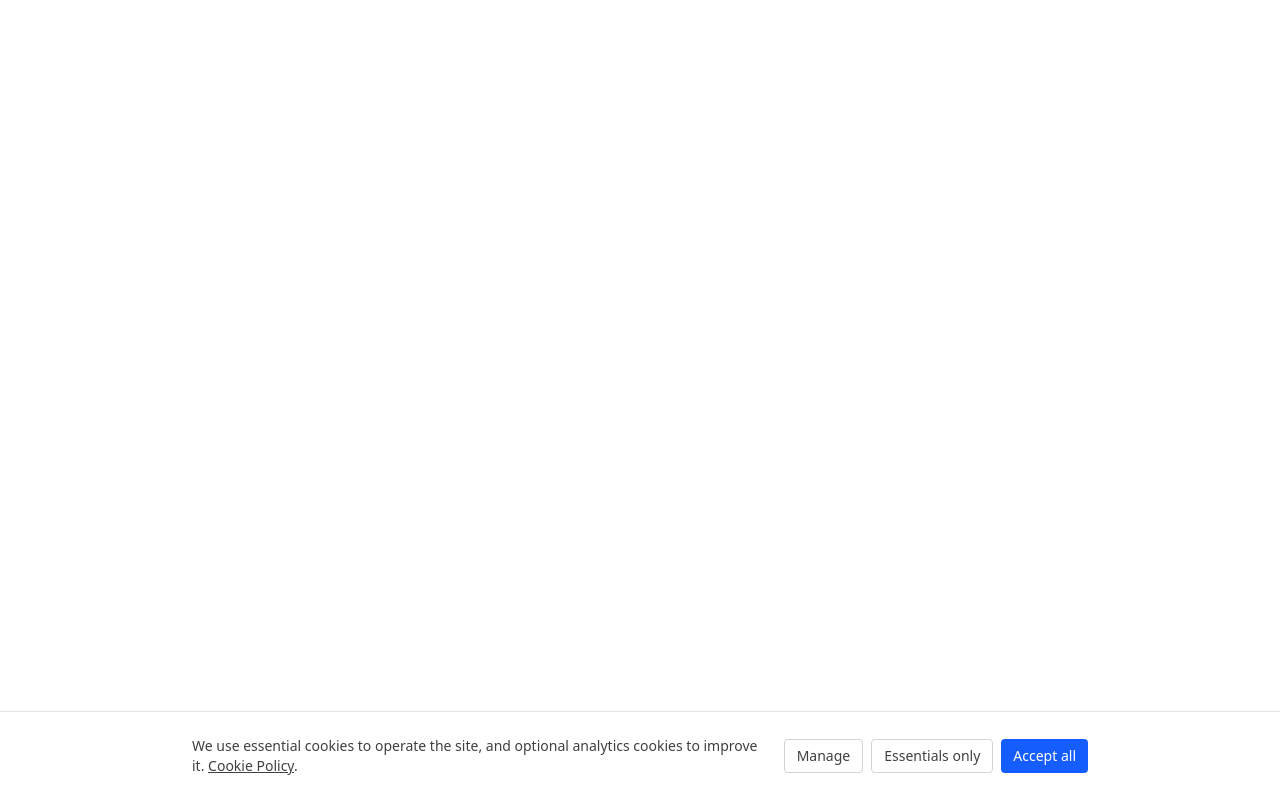
Scenario: CookieBanner › closes dialog when Cancel is clicked
Click the button "Manage": (823, 756) [784,739,863,773]
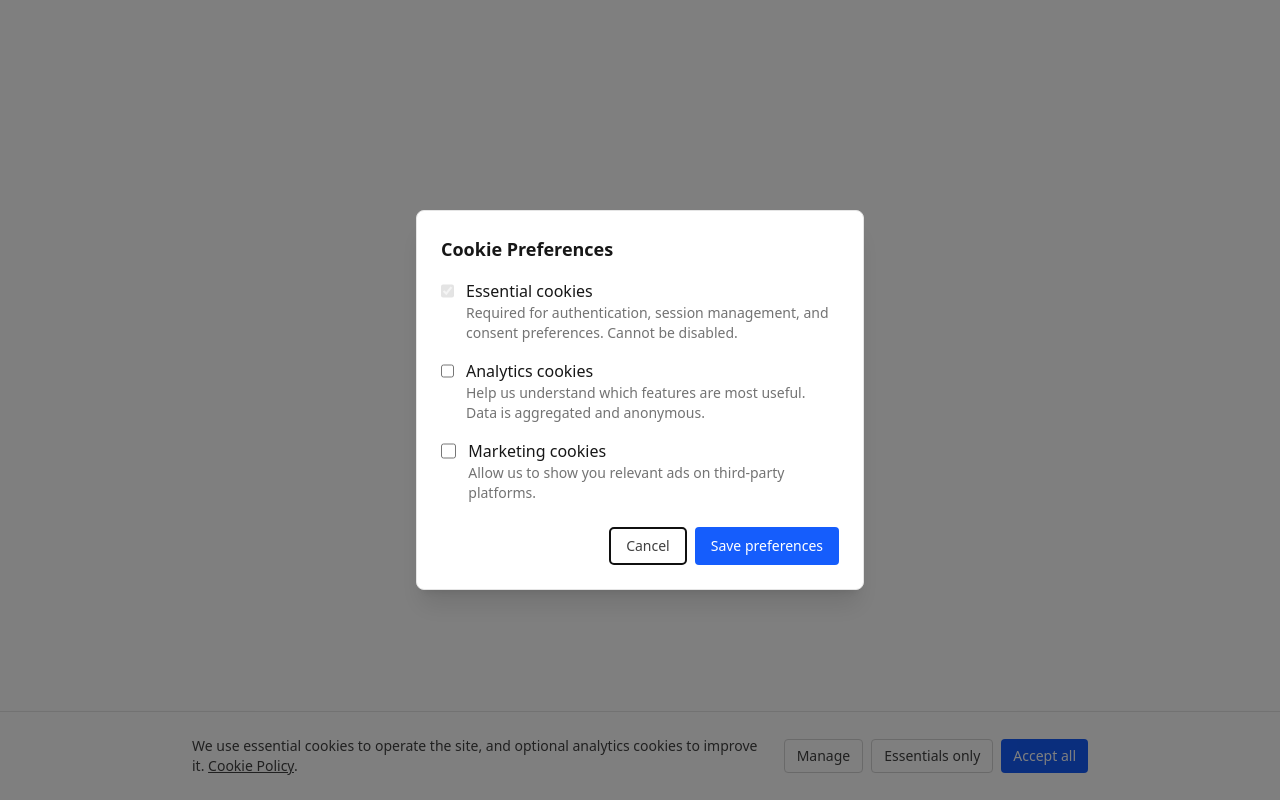
Check: the dialog is shown
Click the button "Cancel": (648, 546) [609,527,687,565]
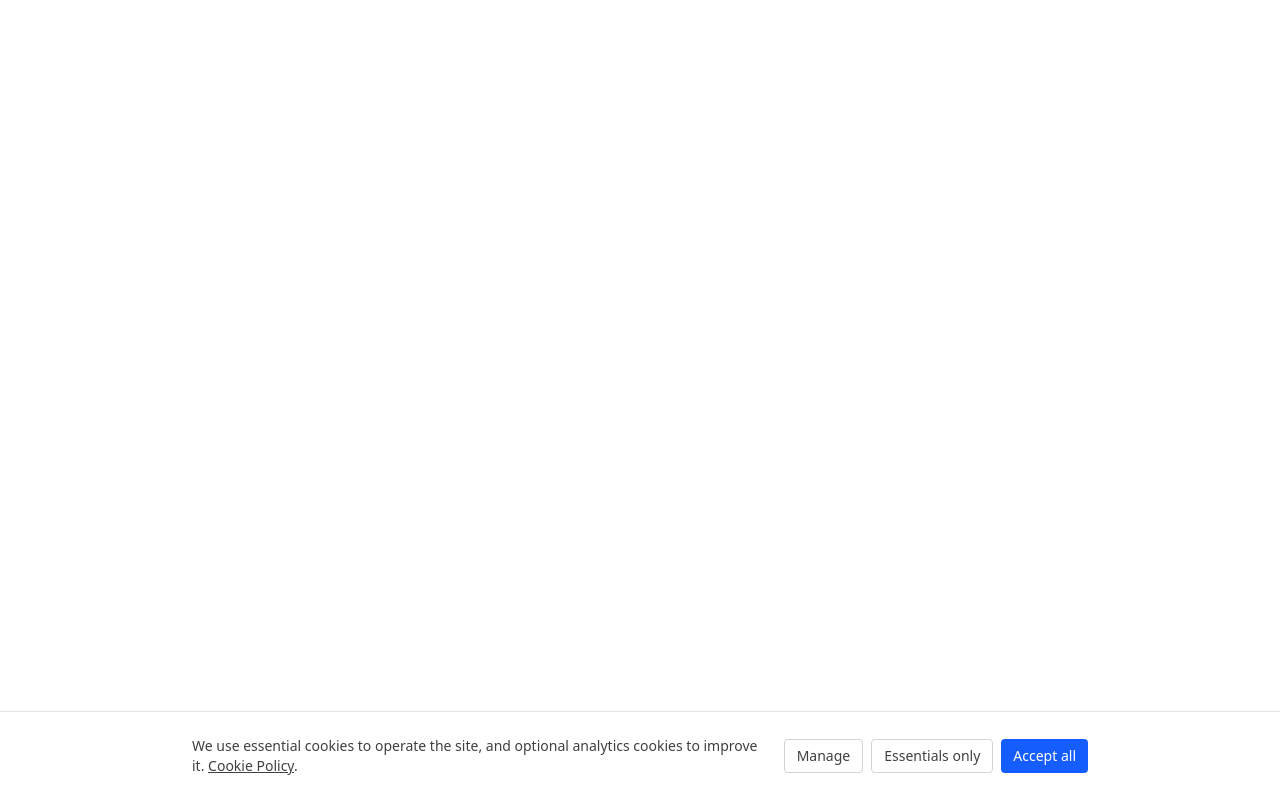
Check: the dialog is gone
